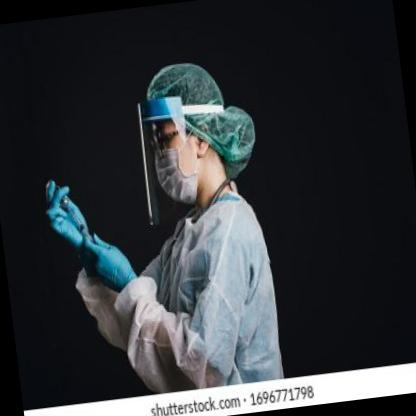Gloves: (42, 174, 90, 253), (89, 230, 138, 292)
